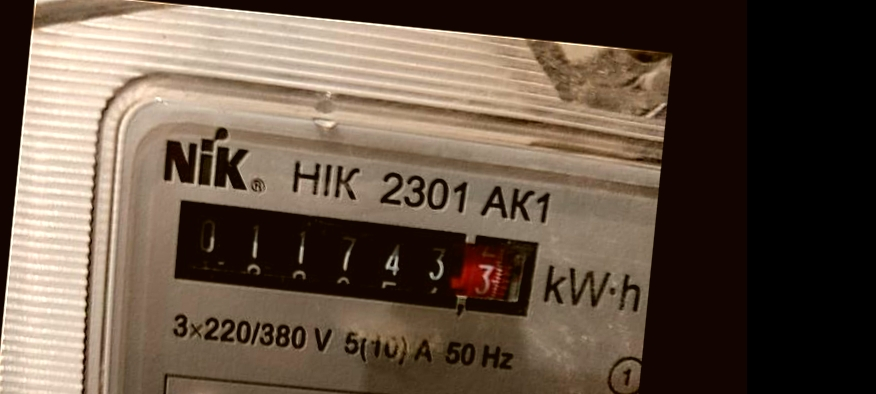0: (195, 216, 220, 257), (244, 220, 266, 262)
1: (291, 225, 311, 268)
3: (425, 242, 449, 286), (472, 259, 495, 299)
4: (380, 237, 404, 279)
7: (333, 230, 361, 276)
screen: (152, 185, 548, 330)
